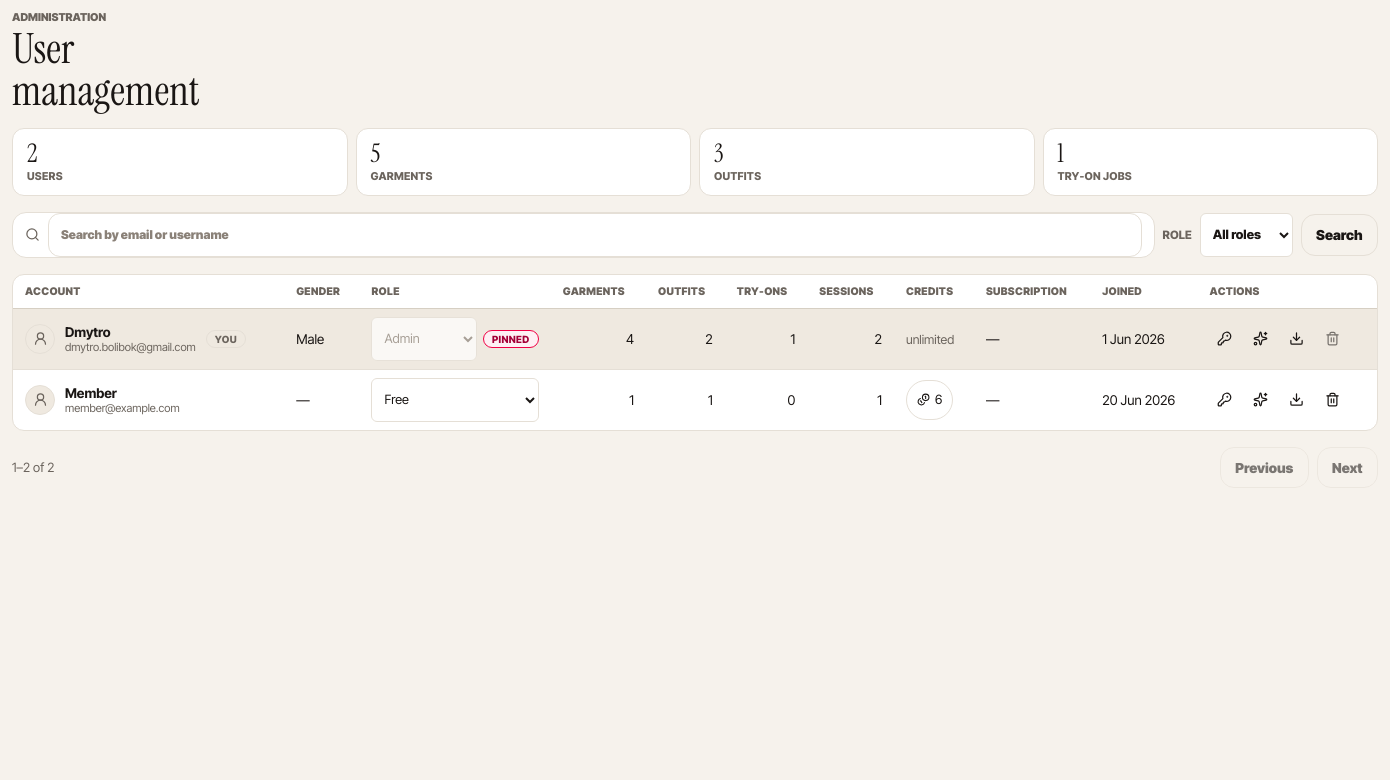
Scenario: AdminPage › changes a member role through the role select
Select "Premium" in the dropdown named "Role of Member": coordinates (455, 400) [372,378,539,422]
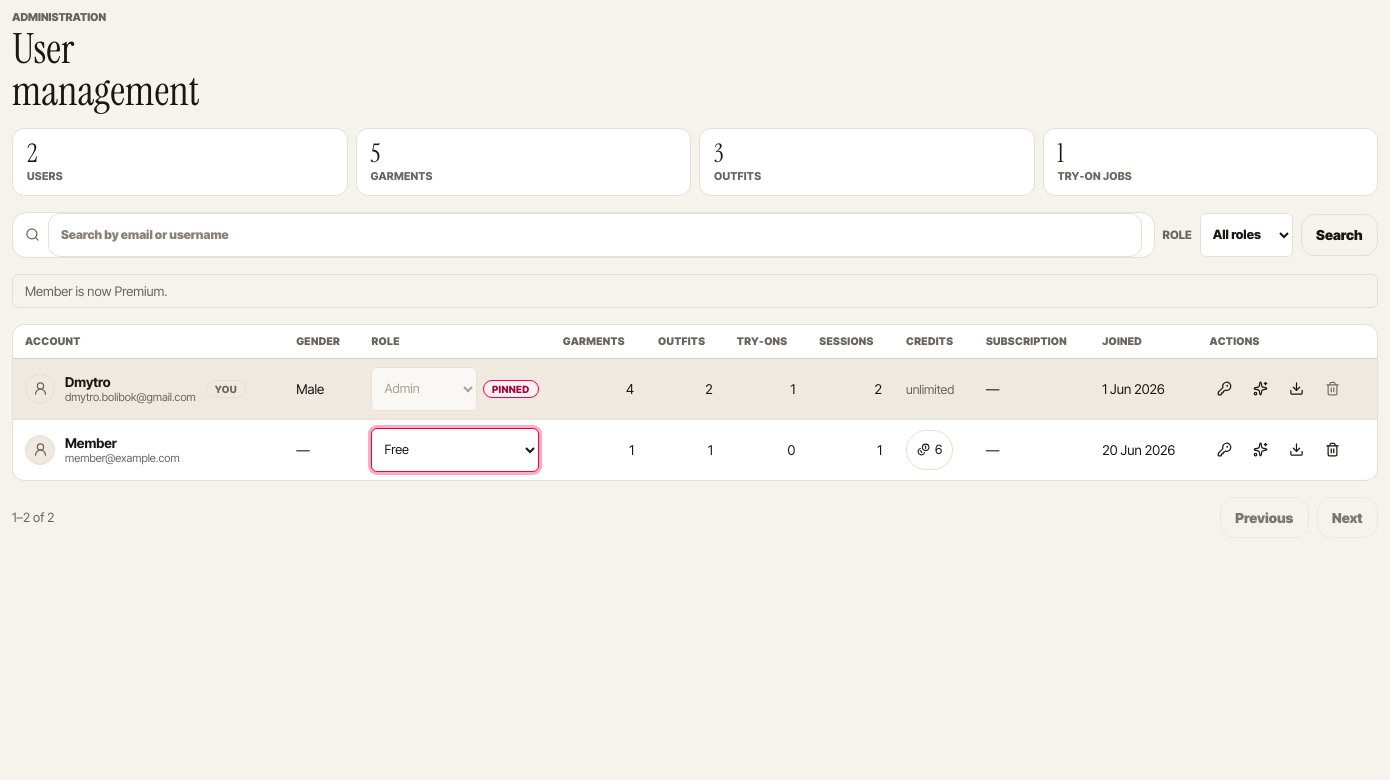
Check: the text "Member is now Premium." is shown, box [12,274,1378,308]
